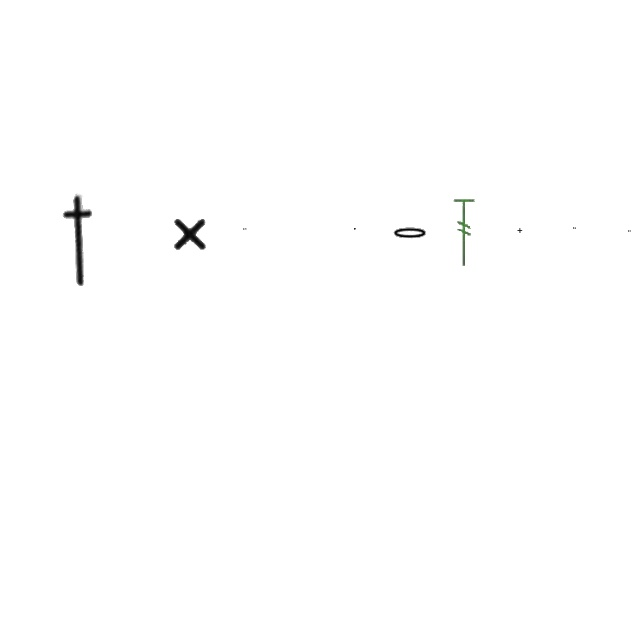chain: (391, 226, 429, 242), (243, 228, 247, 230), (628, 230, 632, 232), (354, 228, 356, 230), (574, 227, 576, 229)
double: (171, 213, 209, 253), (517, 228, 523, 234)
enseble_chain: (52, 194, 108, 288)
fan: (452, 198, 478, 268)
